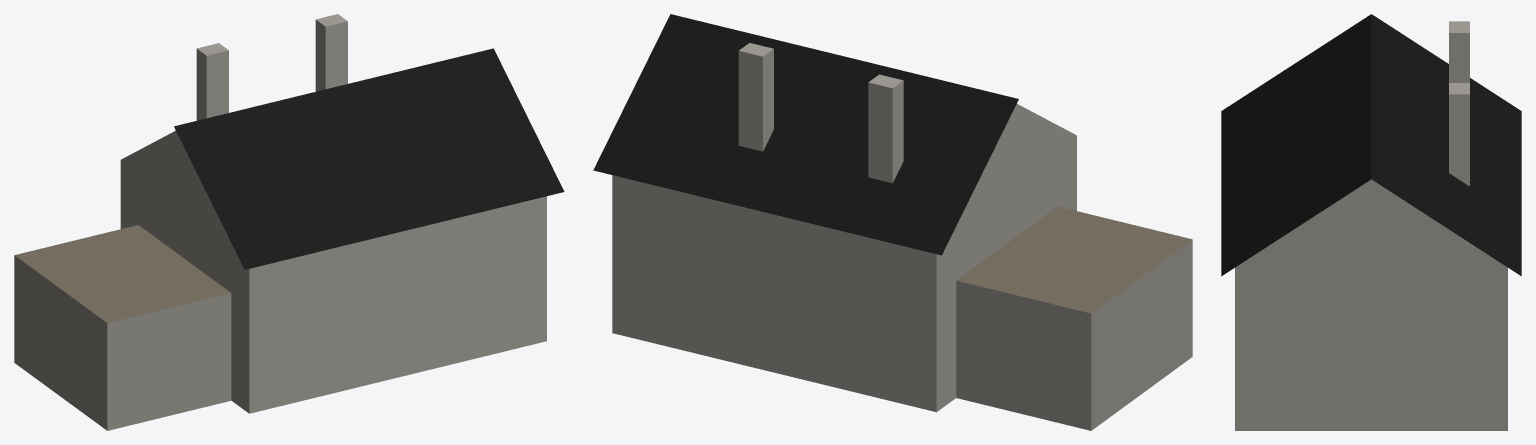
The model's file is ns-colonial.towns-v1.lod2.glb.
3 renders of one model, left to right at view 1: azimuth 30°, elevation 25°; view 2: azimuth 150°, elevation 25°; view 3: azimuth 270°, elevation 25°, orthographic. The views are drawn at different scales.
Visible parts, largest first — view 1: ns-colonial; view 2: ns-colonial; view 3: ns-colonial.
Part boxes in pixels (box(x1,y1,x2,y2)): ns-colonial: box(14, 14, 564, 430); ns-colonial: box(593, 14, 1192, 430); ns-colonial: box(1221, 14, 1521, 430).
Size of the model in its own units: 17.45 by 10.4 by 9.9.
